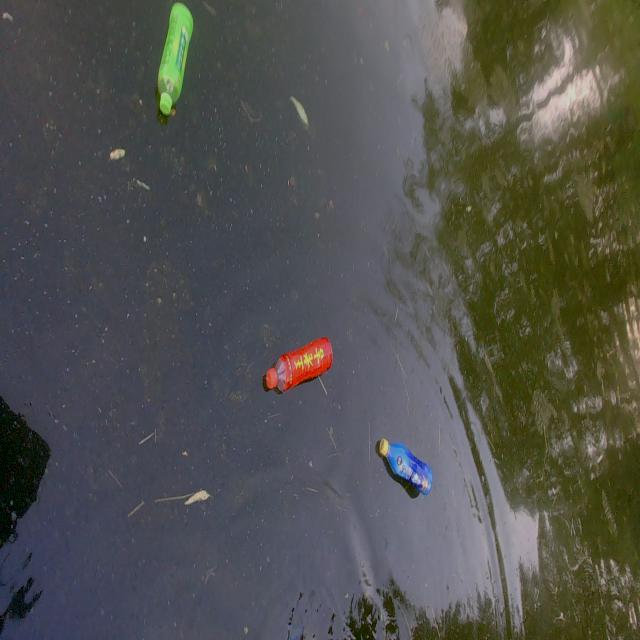bottle: (251, 326, 348, 403), (146, 3, 202, 132), (363, 428, 448, 502)
